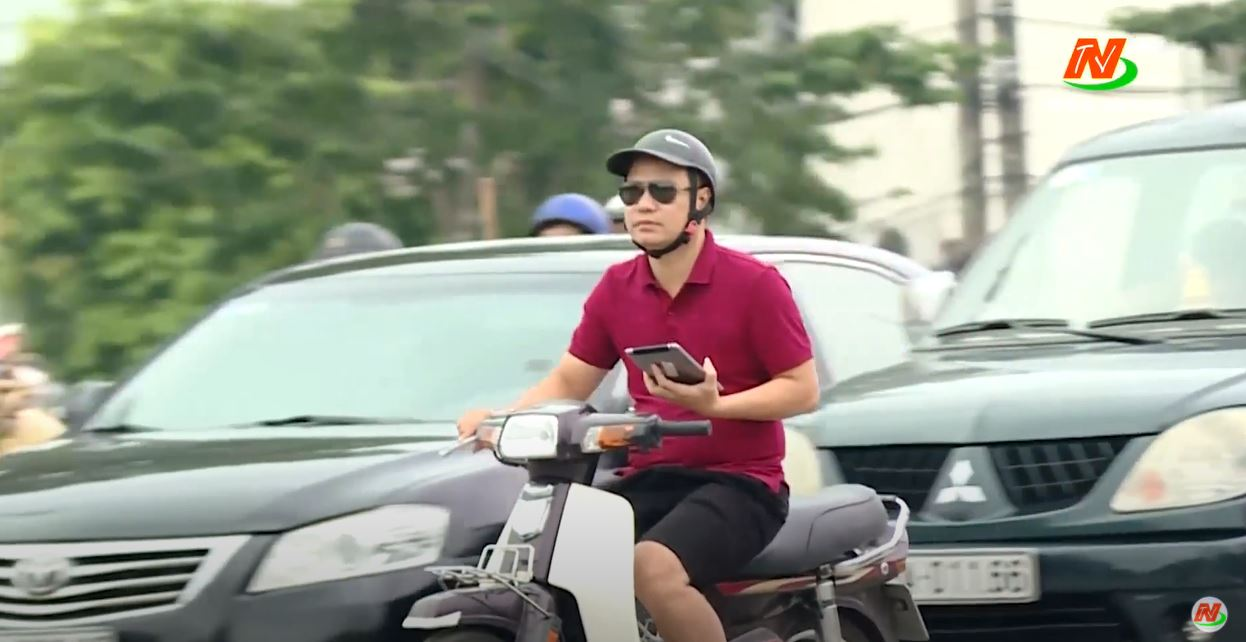dieu khien xe may: (460, 129, 780, 641)
su dung dien thoai: (607, 131, 731, 405)
